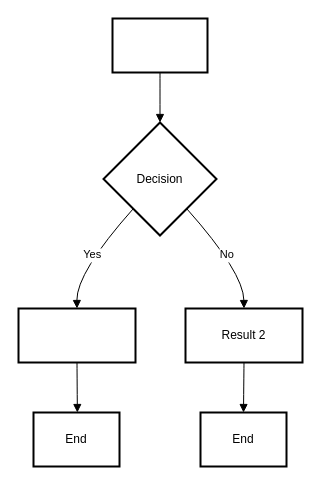
Image size: 320x484. Some labels were removed from this diagram. The shapes that lost their labels are listed below. From the top down, each one's centre as x and y in pixels, then its label:
At (x=159, y=45): "Start".
At (x=76, y=335): "Result 1".
